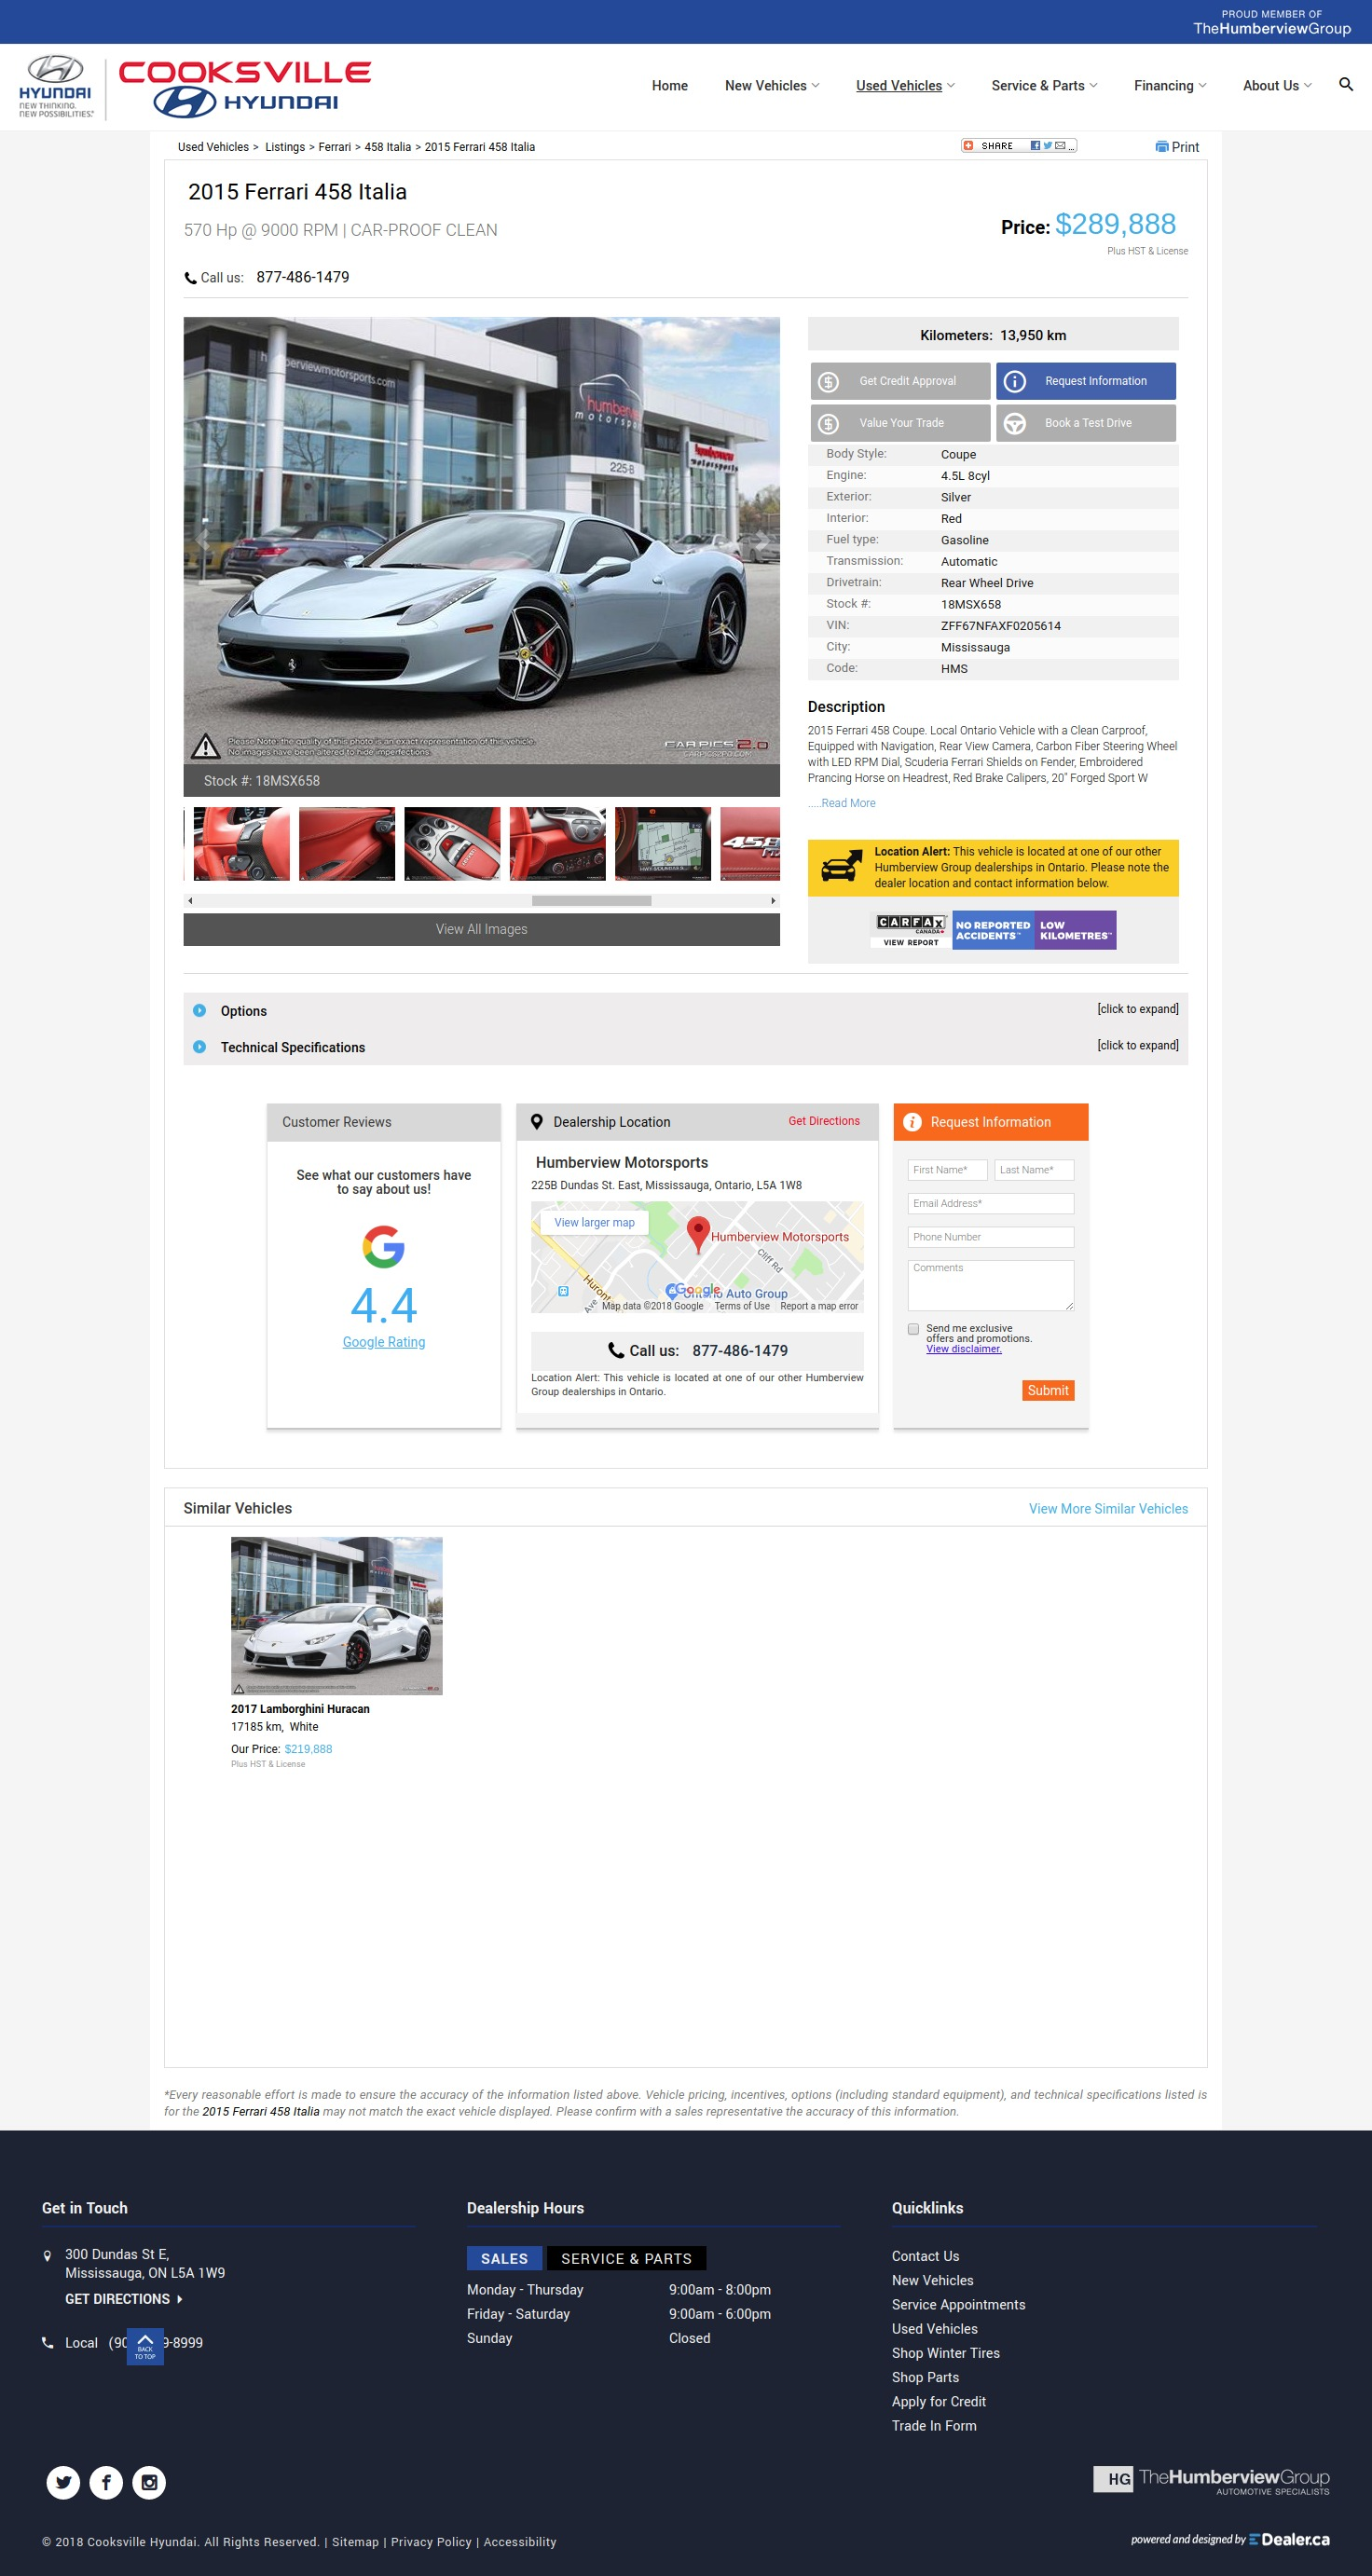car: (770, 898, 777, 905)
